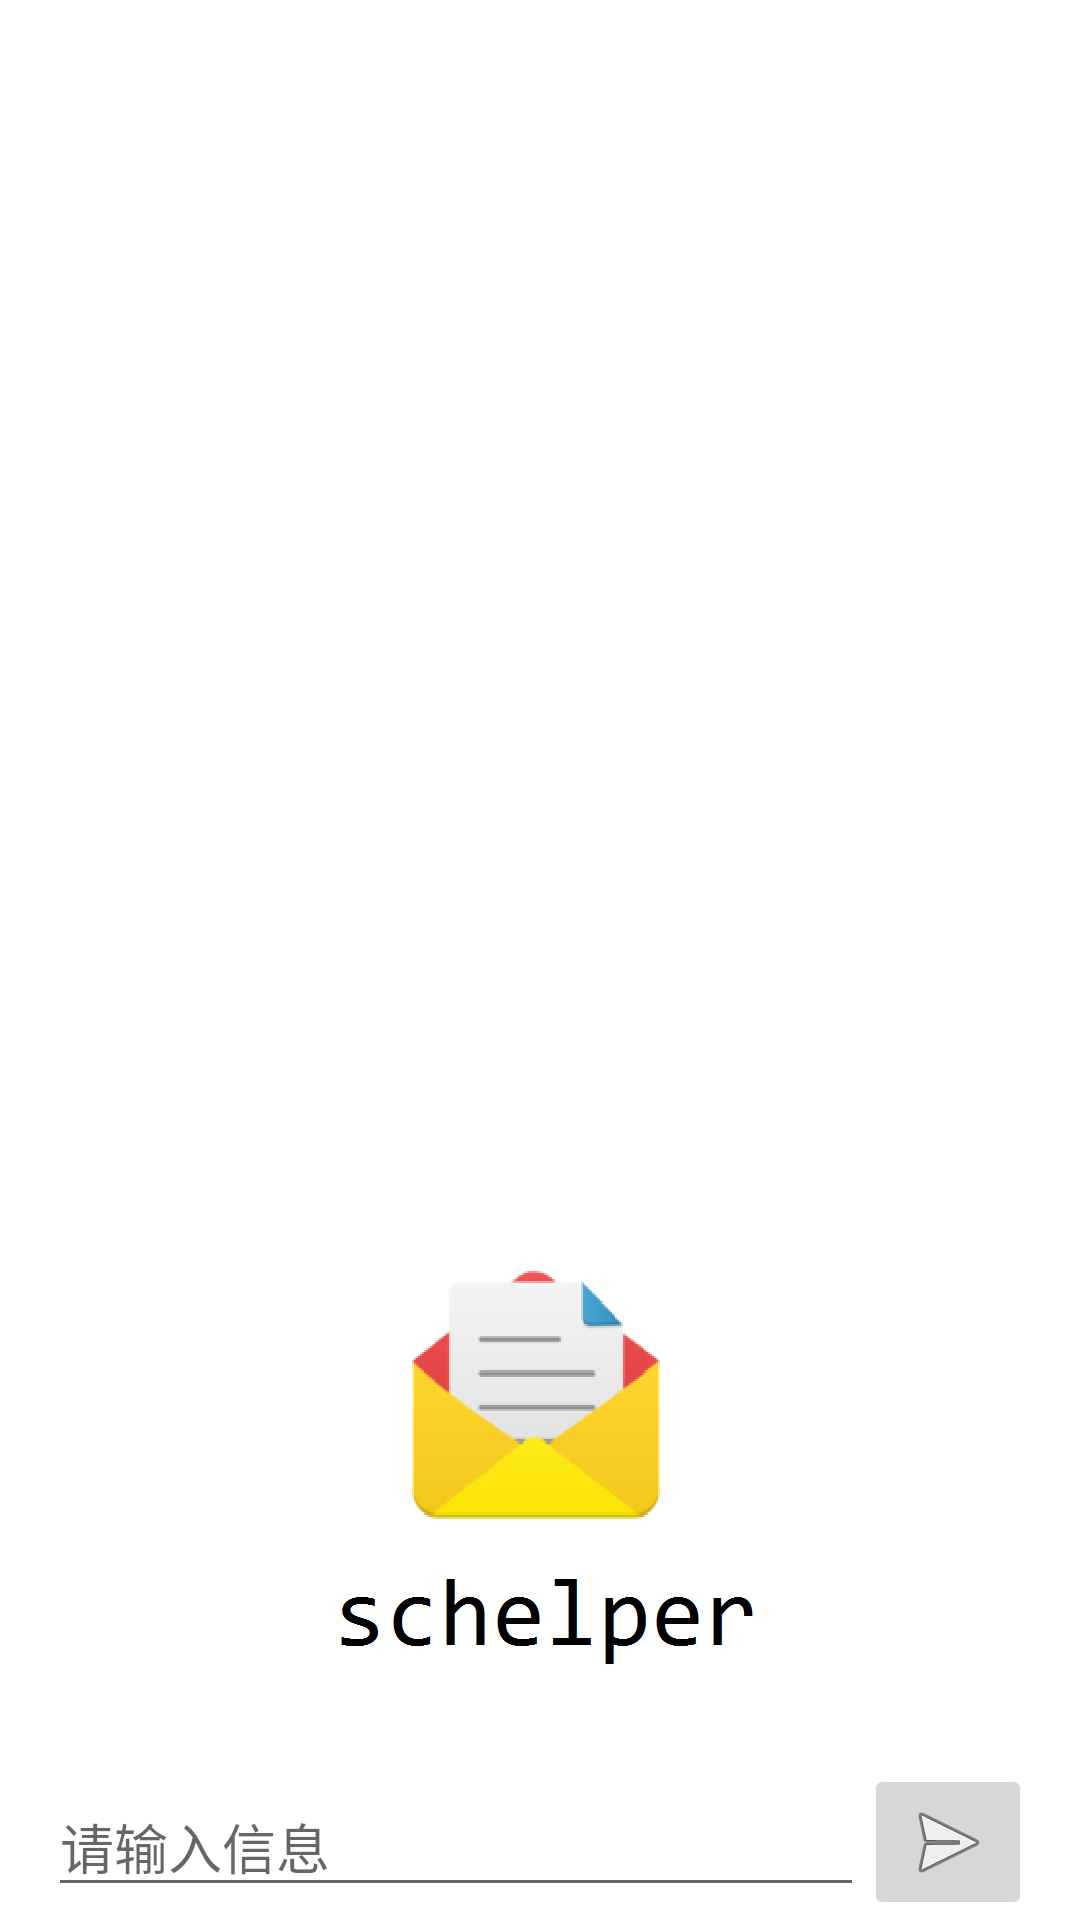

Icons on this 1080w x 1920h Android screen, each with its box as (x1, y1, x2, y2):
发送: (876, 1782, 1020, 1902)
